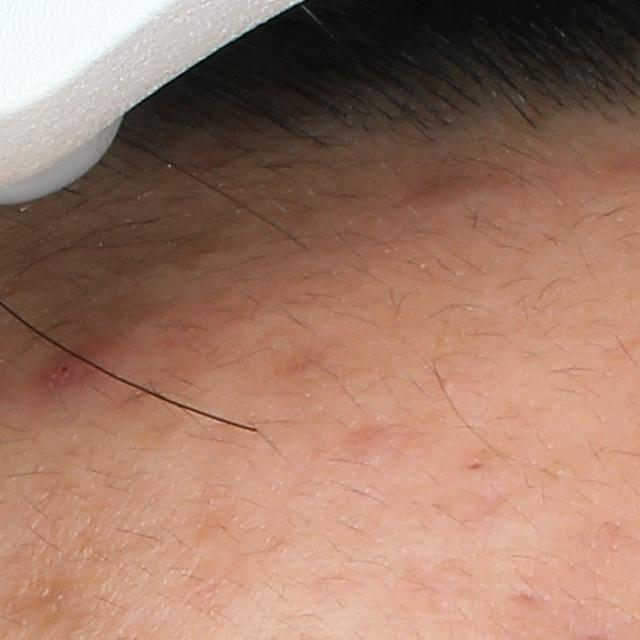comedo: (459, 458, 492, 472)
papule: (41, 352, 87, 388)
